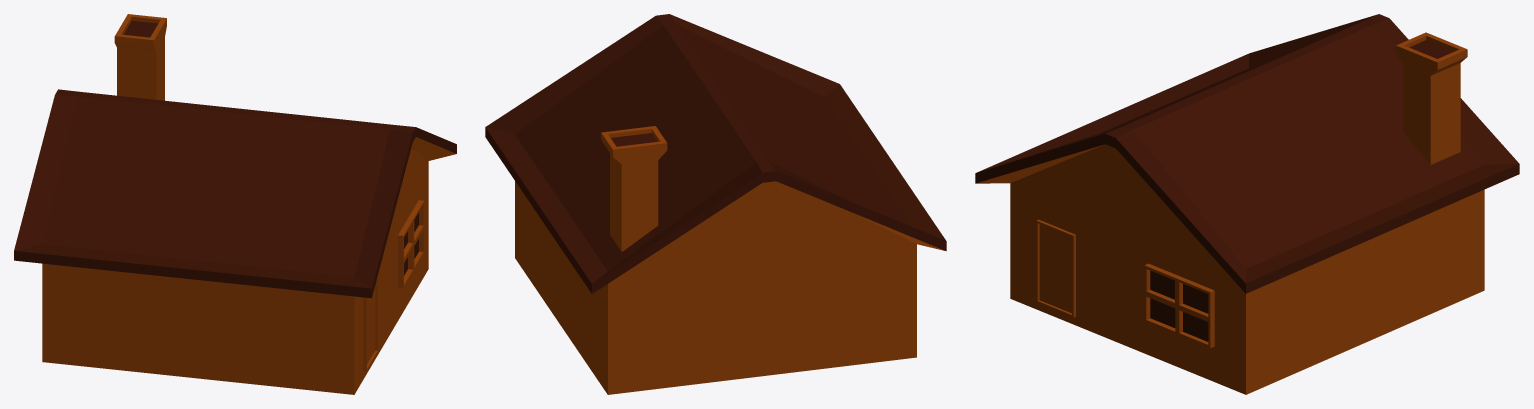
Rendered from lowpoly_1.fbx.
3 renders of one model, left to right at view 1: azimuth 30°, elevation 25°; view 2: azimuth 150°, elevation 25°; view 3: azimuth 270°, elevation 25°, orthographic. The views are drawn at different scales.
Parts seen in each view (by area): view 1: Cube; view 2: Cube; view 3: Cube.
Boxes of the visible parts, x1,y1,x2,y2 form: Cube: (14,14,456,394); Cube: (485,14,946,394); Cube: (975,14,1519,394).
Bounding box in the file's own units: 1188 × 585 × 1187.
